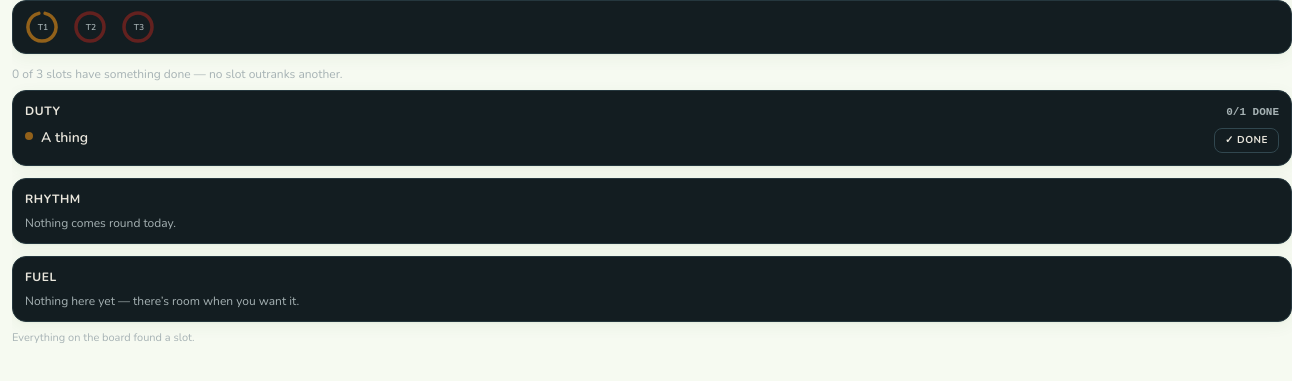
Test: SlotBoard — undo-grace holds the write (option (a), board layer) › a FAILED write stops claiming done and shows the error
What coordinates should you click on to do the following:
click the button with test id "board-complete"
I would click on:
 (1246, 140)
Its box is 1214,128 -> 1279,153.
Wait 6000 ms
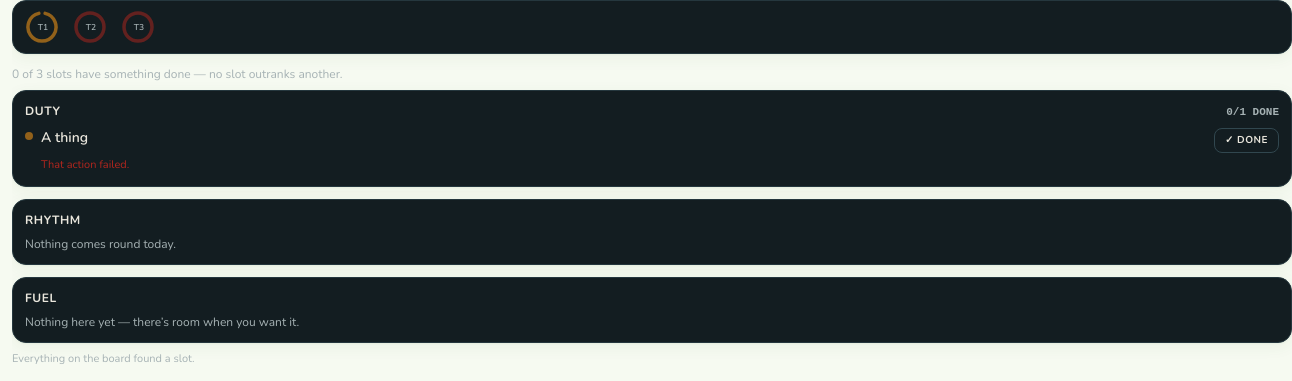
Now the message "That action failed." is shown, box 41,157 -> 129,172
